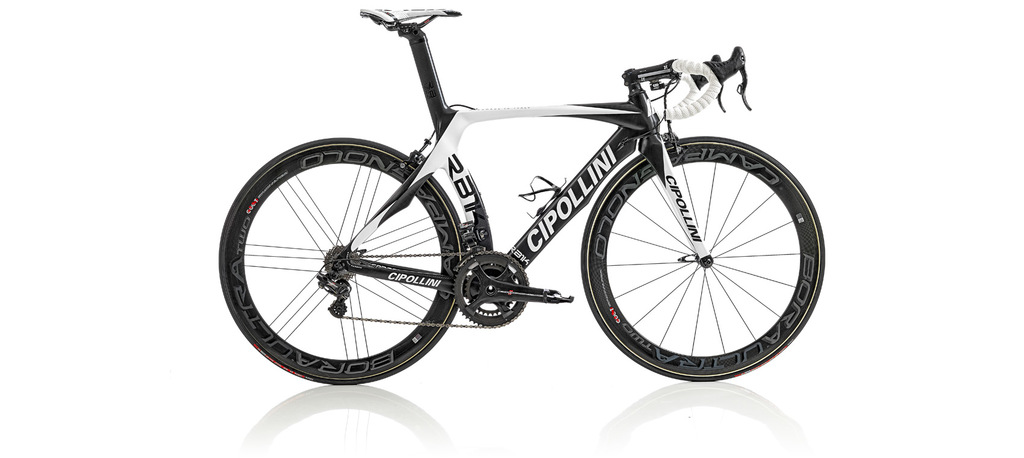Bike_toward: (238, 17, 830, 407)
